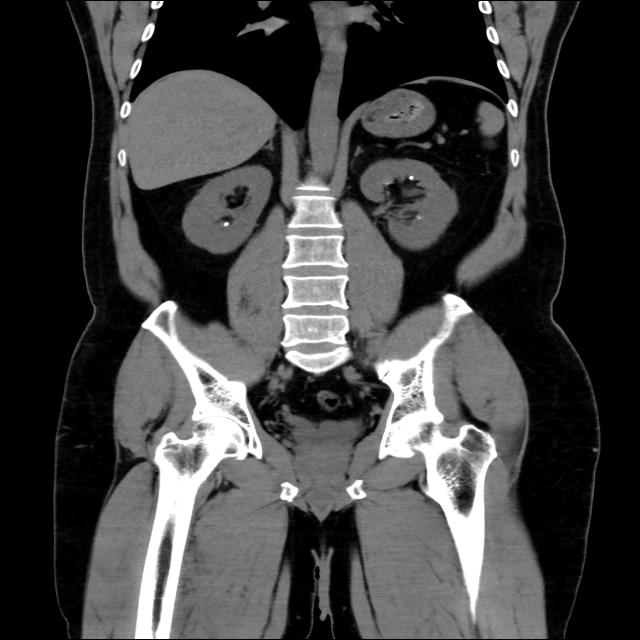kidneystone: (220, 218, 233, 224), (407, 175, 415, 180), (415, 216, 418, 219)
